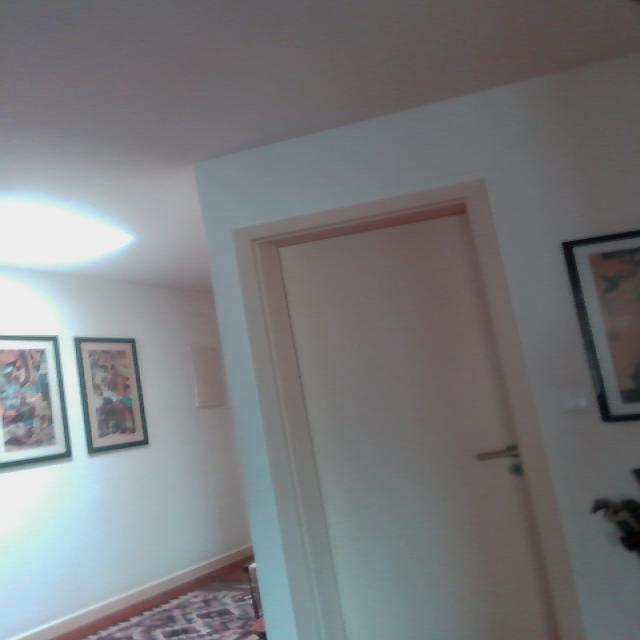door: (239, 182, 584, 638)
